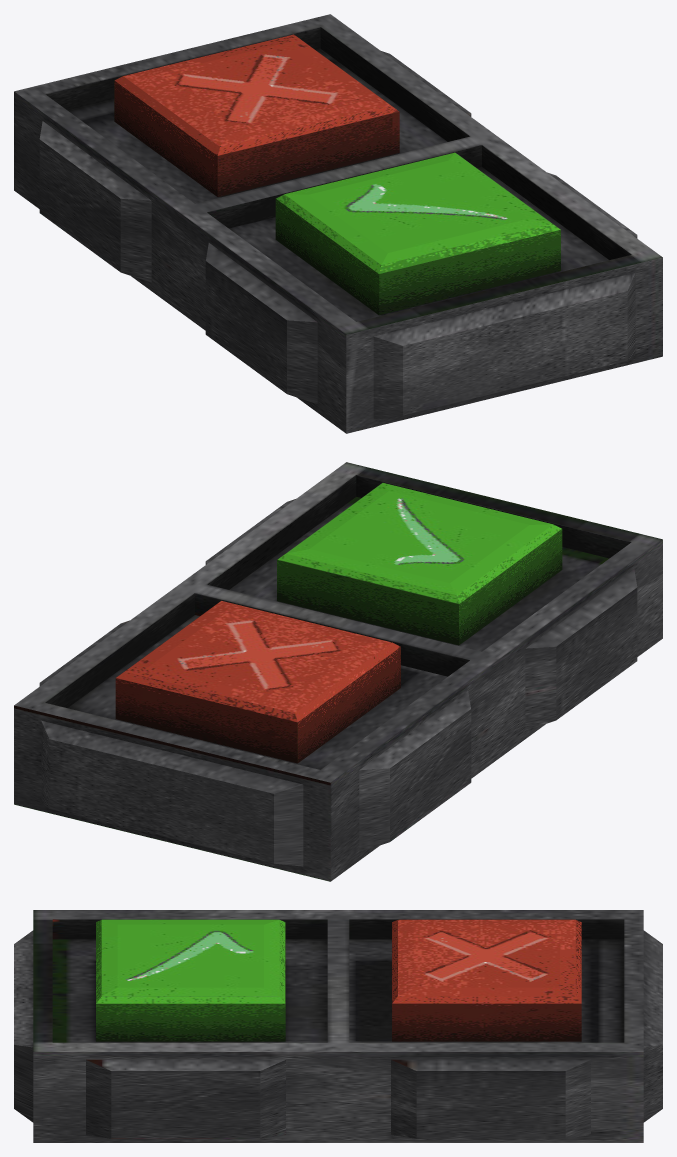
Rendered from Buttons.fbx.
The picture shows the model from 3 angles, top to bottom: view 1: azimuth 30°, elevation 25°; view 2: azimuth 150°, elevation 25°; view 3: azimuth 270°, elevation 25°; orthographic projection. The views are drawn at different scales.
Visible parts, largest first — view 1: Base, Accept, Decline; view 2: Base, Accept, Decline; view 3: Base, Accept, Decline.
Boxes of the visible parts, x1,y1,x2,y2 form: Base: (14, 14, 662, 433); Accept: (275, 152, 560, 315); Decline: (114, 34, 399, 196); Base: (14, 462, 662, 881); Accept: (277, 483, 562, 645); Decline: (115, 601, 400, 763); Base: (14, 910, 662, 1142); Accept: (96, 919, 285, 1041); Decline: (392, 919, 581, 1041).
Bounding box in the file's own units: 221 × 75.94 × 387.
Materials: 1 (1 with a texture image).
